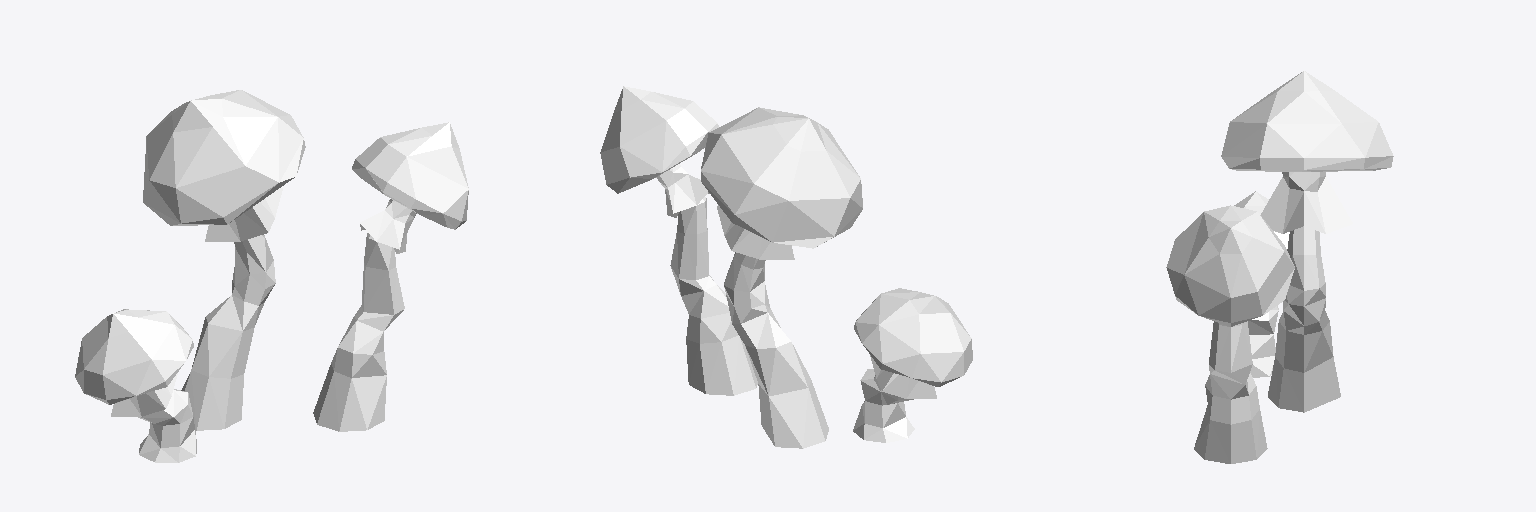
Rendered from mushroom_02.obj.
3 renders of one model, left to right at view 1: azimuth 30°, elevation 25°; view 2: azimuth 150°, elevation 25°; view 3: azimuth 270°, elevation 25°, orthographic.
Bounding box in the file's own units: 0.9086 × 0.7521 × 0.4856.